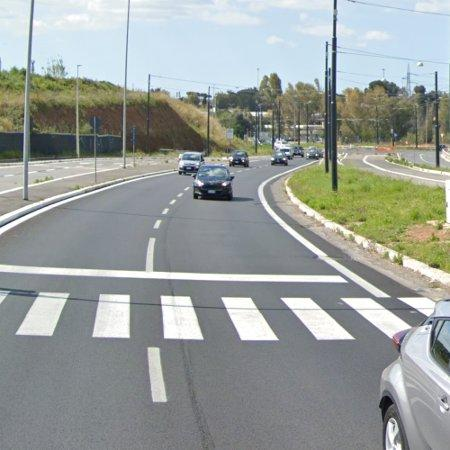crosswalks: (0, 289, 441, 345)
